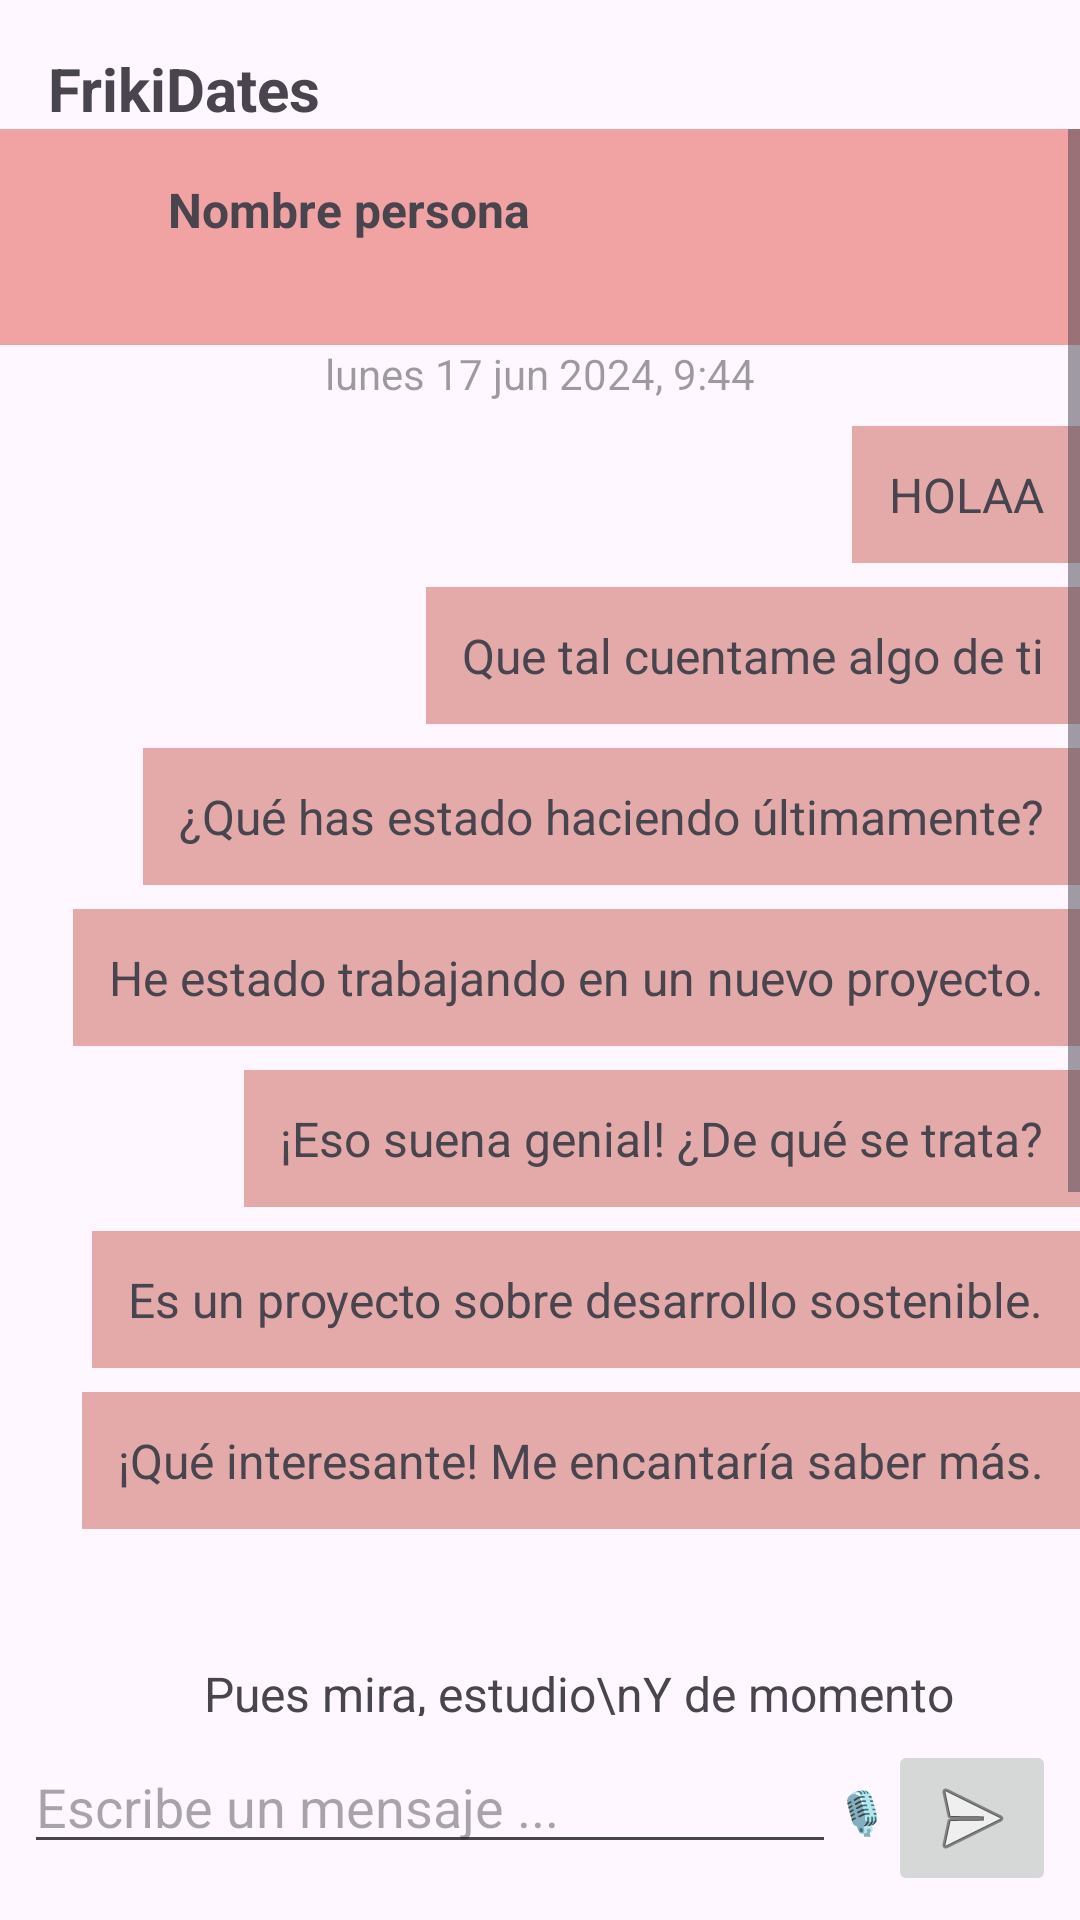

Named icons in this screenshot (1080px x 1920px) and their centers, [x,y]:
send: [972,1818]
